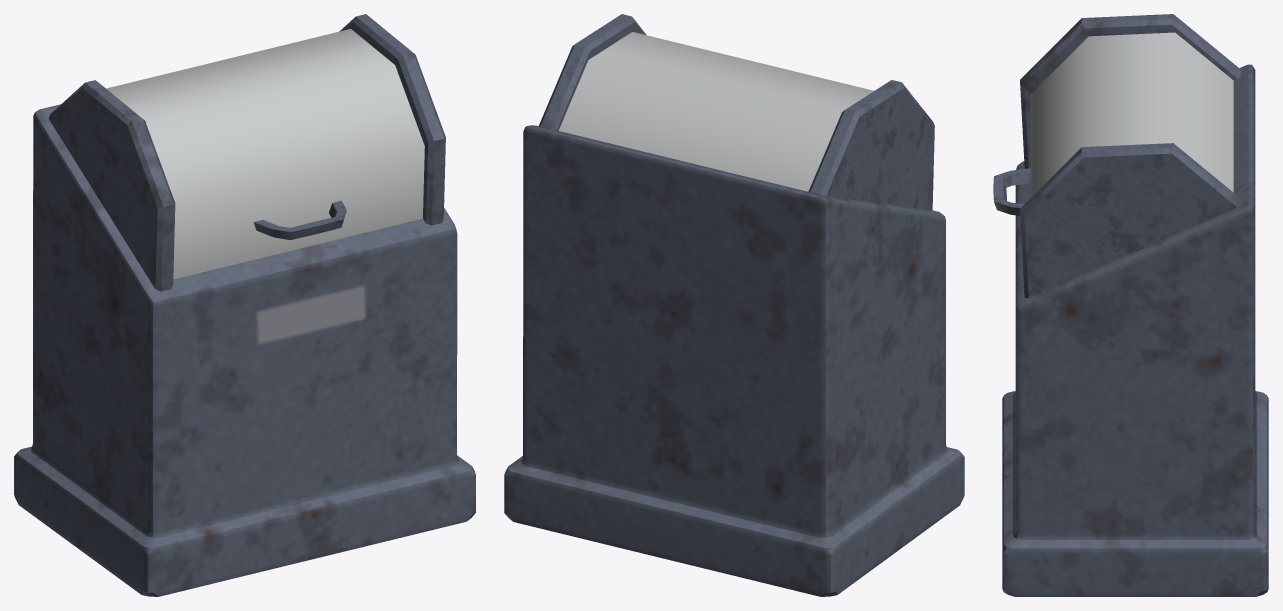
The model's file is trashCan4.glb.
3 views of the same model, side by side, from view 1: azimuth 30°, elevation 25°; view 2: azimuth 150°, elevation 25°; view 3: azimuth 270°, elevation 25° (orthographic). The views are drawn at different scales.
Parts seen in each view (by area): view 1: SM_TrashCan05; view 2: SM_TrashCan05; view 3: SM_TrashCan05.
Part boxes in pixels (<box>): SM_TrashCan05: <box>14,14,475,596</box>; SM_TrashCan05: <box>504,14,964,596</box>; SM_TrashCan05: <box>993,14,1268,596</box>.
Size of the model in its own units: 0.7887 by 1.02 by 0.5804.
1 material, 1 textured.
